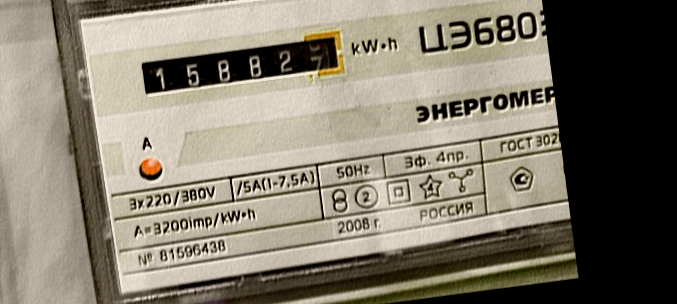1: (154, 65, 169, 92)
2: (277, 48, 296, 75)
5: (185, 61, 202, 89)
7: (309, 53, 326, 72)
8: (216, 57, 235, 84), (247, 53, 266, 80)
screen: (131, 25, 356, 110)
